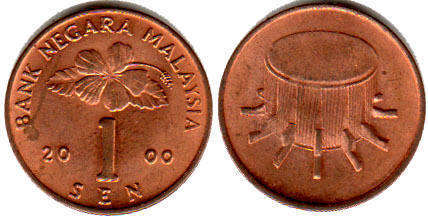1c: (4, 1, 214, 216), (218, 0, 426, 213)
